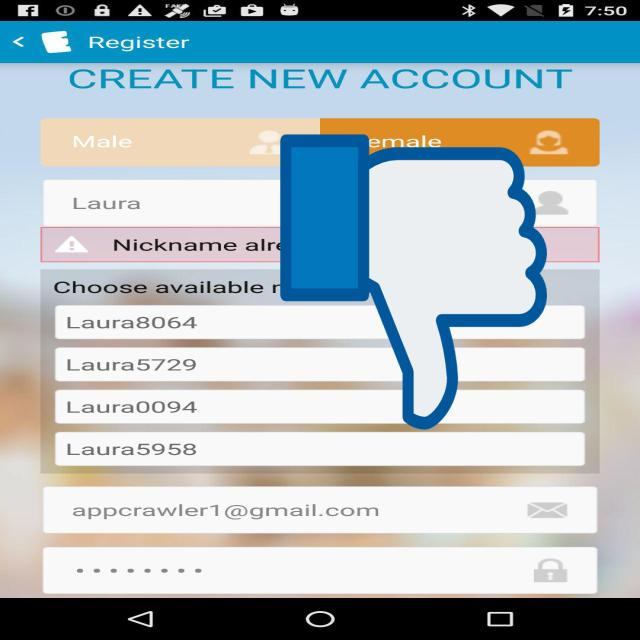obstruction: (280, 128, 547, 436)
